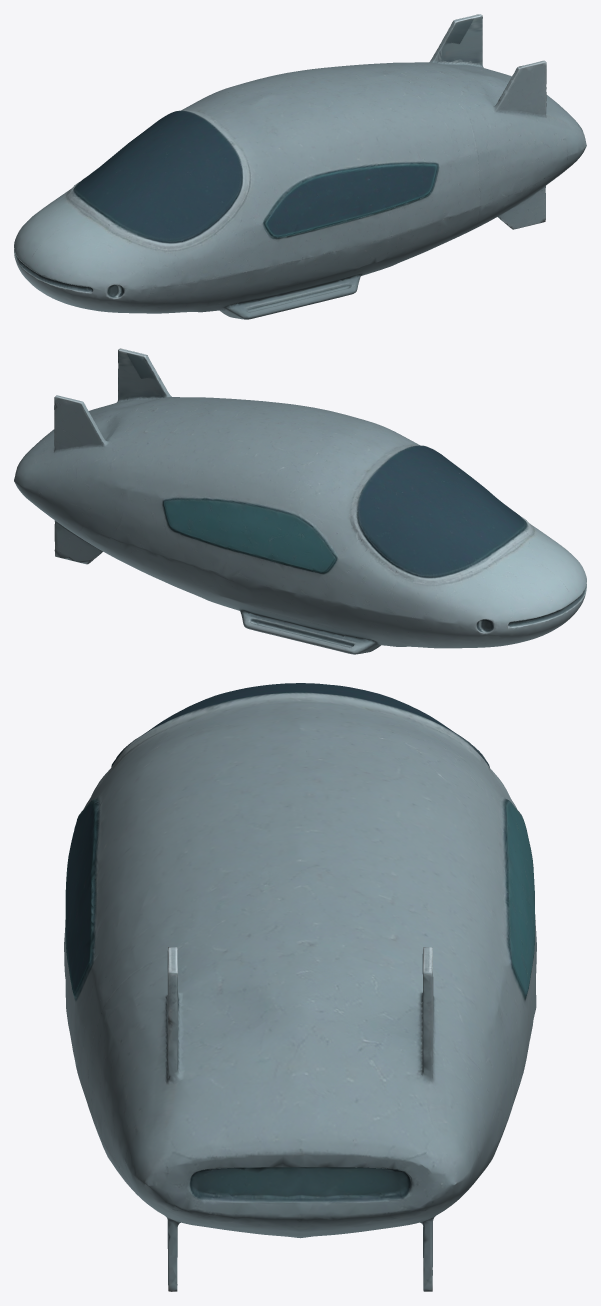
Rendered from Prop_ExplorerCapsule.glb.
The picture shows the model from 3 angles, top to bottom: view 1: azimuth 30°, elevation 25°; view 2: azimuth 150°, elevation 25°; view 3: azimuth 270°, elevation 25°; orthographic projection. The views are drawn at different scales.
Bounding box in the file's own units: 1.9 × 0.6142 × 0.7424.
Materials: 1 (1 with a texture image).
